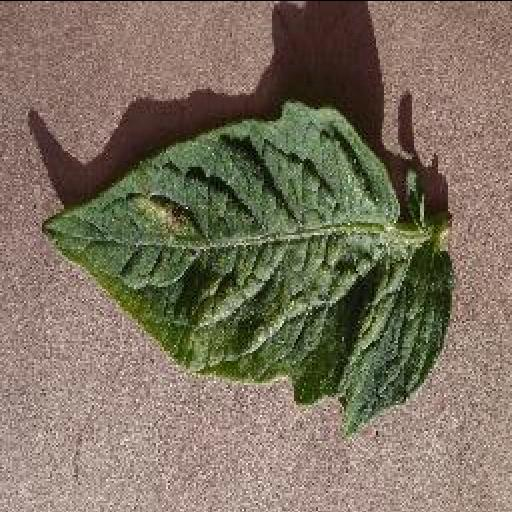disease_tomato: (41, 100, 455, 430)
